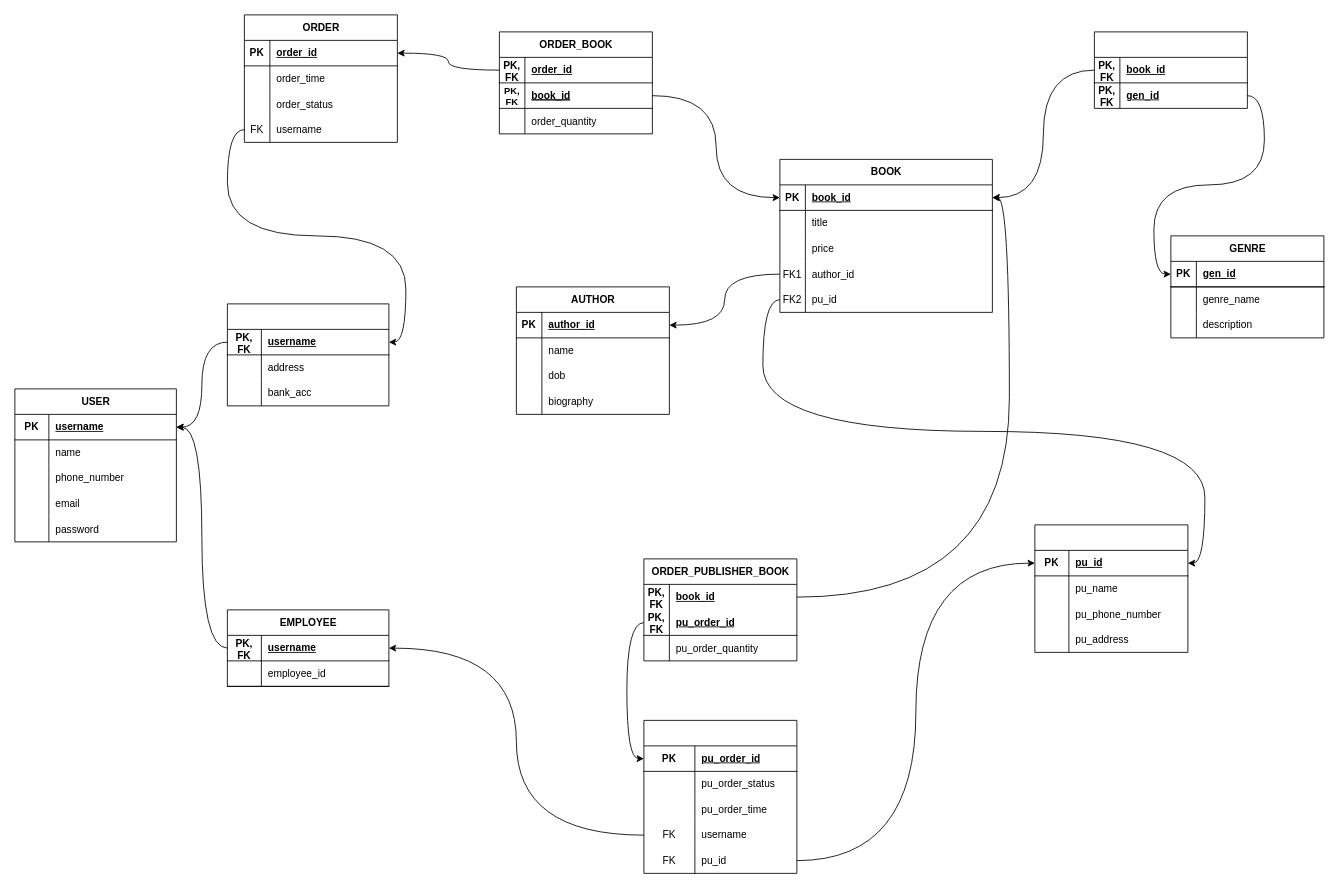
Some shapes in this 1339 by 888 pixel diagram are drawn without their labels. The box of each missing label's shape, as (x1, y1, x2, y2) in pixels:
BOOK_GENRE: (1094, 31, 1247, 108)
CUSTOMER: (227, 303, 389, 406)
ORDER_PUBLISHER: (643, 720, 797, 873)
PUBLISHER: (1034, 524, 1188, 652)
